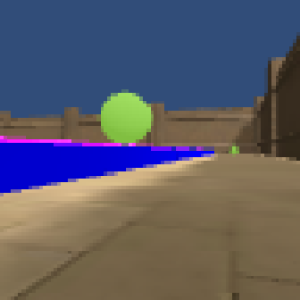goodGoal: (99, 90, 154, 143), (227, 144, 242, 156)
platform: (2, 146, 209, 186)
ramp: (1, 135, 131, 147)
